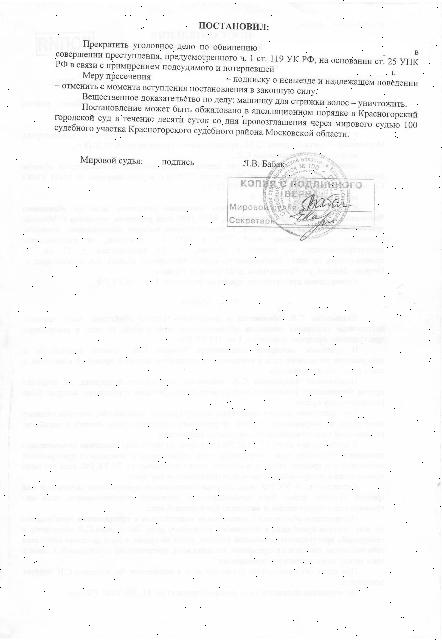stamp: (258, 152, 350, 238)
